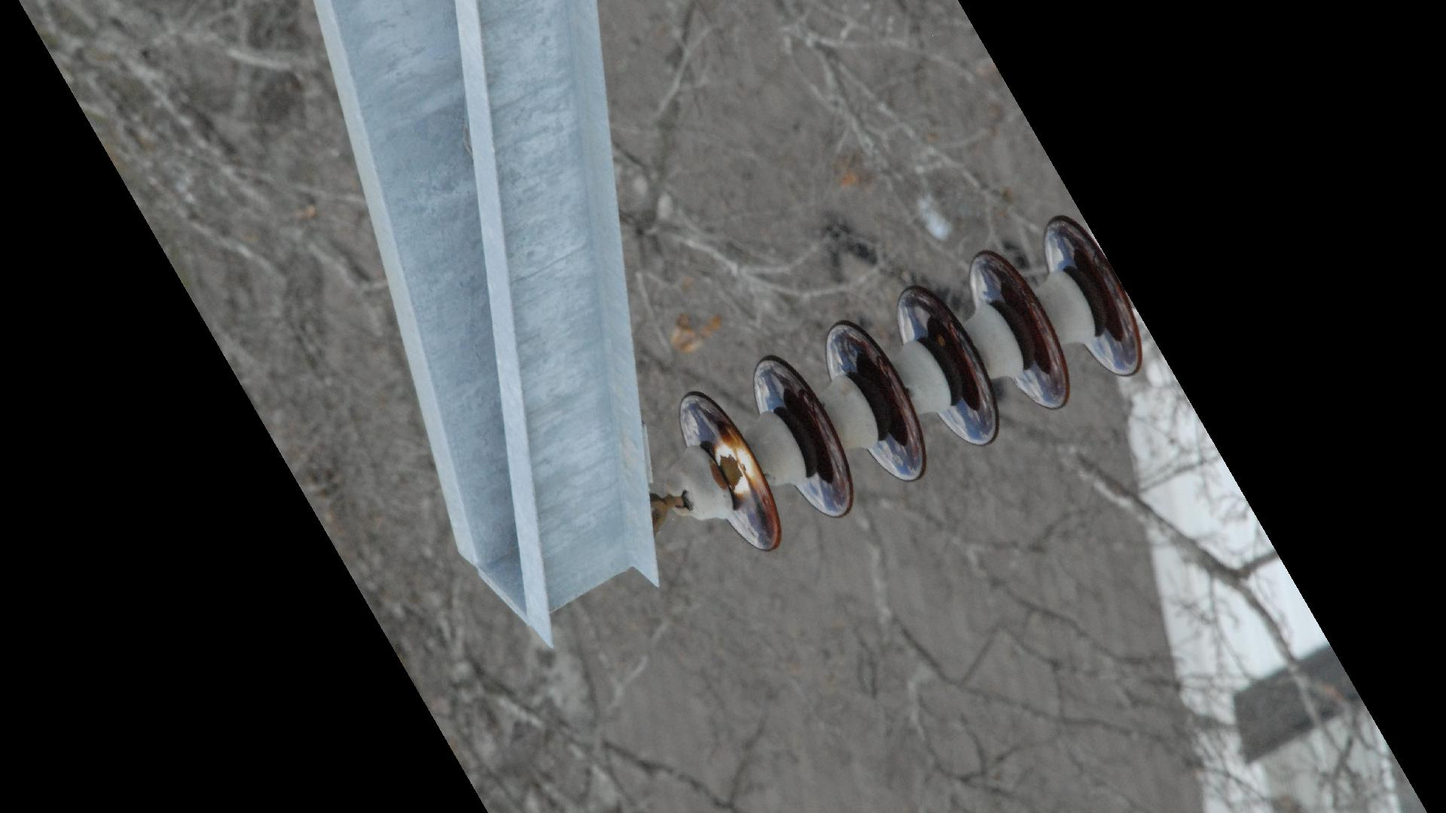insulator: (673, 211, 1147, 556)
insulator_flashover: (712, 434, 768, 501)
